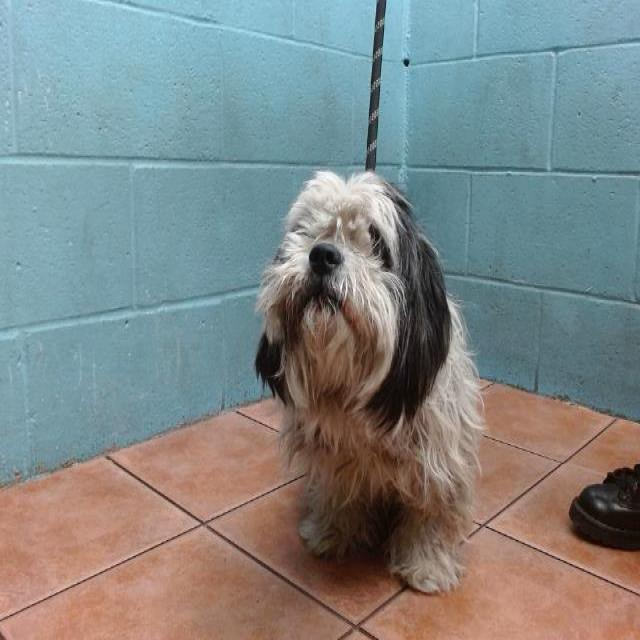shih_tzu_dog: (250, 163, 458, 440)
